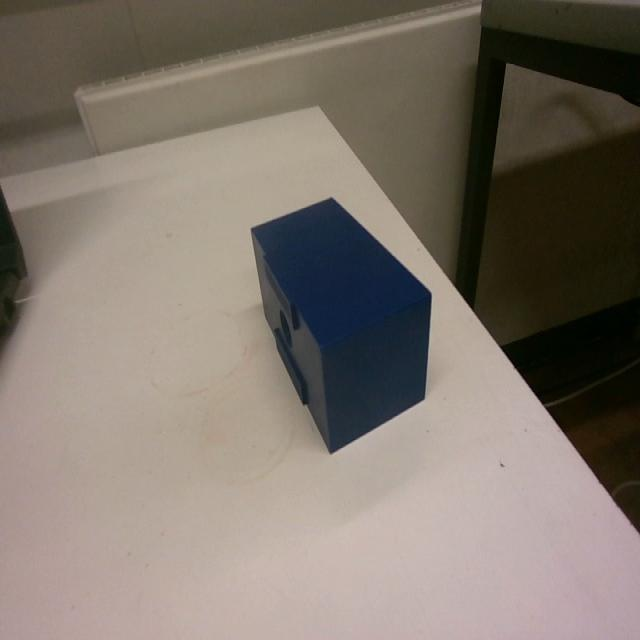Blue Cuboid: (247, 192, 433, 455)
